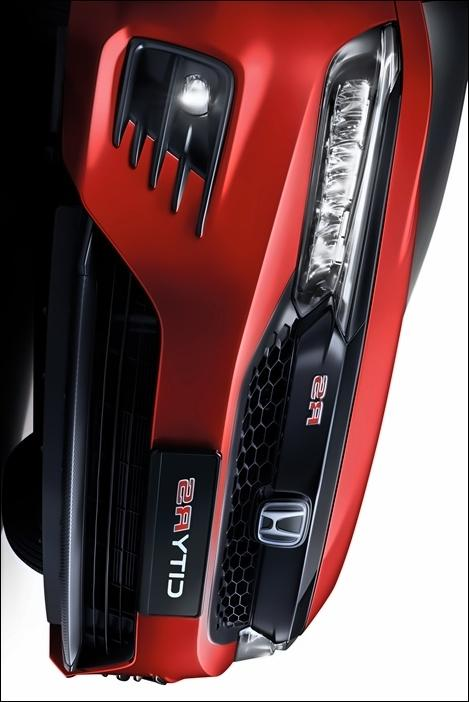Car hood: (305, 0, 438, 650)
Front bumper: (22, 0, 400, 688)
Headlight - -R-: (291, 19, 403, 340)
